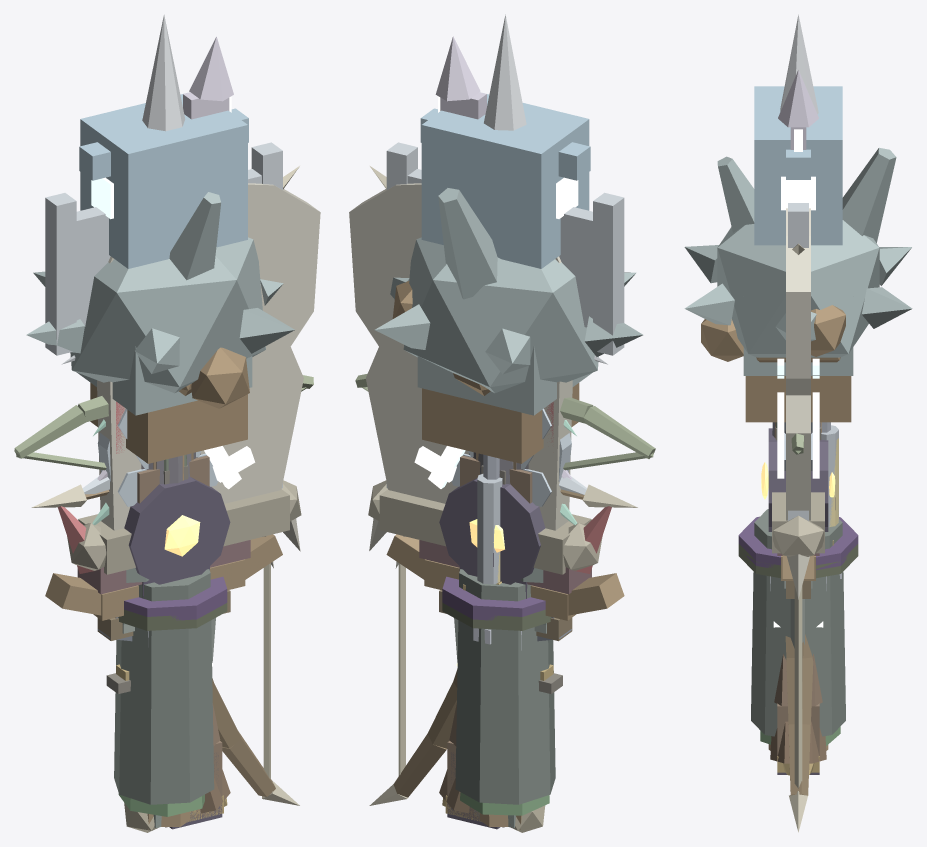
File: weapon.glb
The picture shows the model from 3 angles, left to right: view 1: azimuth 30°, elevation 25°; view 2: azimuth 150°, elevation 25°; view 3: azimuth 270°, elevation 25°; orthographic projection. The views are drawn at different scales.
Visible parts, largest first — view 1: Shellcrusher_Head, GlacierMaul_Head, Drowncleaver_Edge, Shellcrusher_Grip, Galecleaver_Head, VulkanRepeater_Head, DriftwoodClub_Head, Drowncleaver_Guard, Shellcrusher_Spike, Scaleblade_Guard, RimefangLance_Head, GatorjawCrossbow_Edge (+19 smaller); view 2: Shellcrusher_Head, GlacierMaul_Head, Drowncleaver_Edge, Shellcrusher_Grip, Galecleaver_Head, DriftwoodClub_Head, VulkanRepeater_Head, Drowncleaver_Guard, Shellcrusher_Spike, Scaleblade_Guard, GatorjawCrossbow_Edge, RimefangLance_Head (+17 smaller); view 3: Shellcrusher_Head, Shellcrusher_Grip, GlacierMaul_Head, Drowncleaver_Edge, Shellcrusher_Spike, DriftwoodClub_Head, Drowncleaver_Guard, DriftwoodClub_Spike, BogwoodBow_Haft, Krakenfang_Guard, BogwoodBow_Edge, Drowncleaver_Glow (+14 smaller).
Boxes of the visible parts, x1,y1,x2,y2 form: Shellcrusher_Head: [70, 192, 265, 415]; GlacierMaul_Head: [80, 94, 247, 268]; Drowncleaver_Edge: [97, 183, 320, 530]; Shellcrusher_Grip: [114, 569, 214, 804]; Galecleaver_Head: [45, 142, 282, 355]; VulkanRepeater_Head: [124, 477, 230, 584]; DriftwoodClub_Head: [90, 383, 247, 463]; Drowncleaver_Guard: [67, 480, 301, 574]; Shellcrusher_Spike: [26, 271, 294, 373]; Scaleblade_Guard: [45, 534, 282, 620]; RimefangLance_Head: [142, 14, 185, 131]; GatorjawCrossbow_Edge: [14, 375, 313, 470]; Shellcrusher_Head: [403, 188, 598, 415]; GlacierMaul_Head: [421, 94, 589, 268]; Drowncleaver_Edge: [349, 183, 572, 530]; Shellcrusher_Grip: [455, 569, 555, 804]; Galecleaver_Head: [386, 142, 624, 355]; DriftwoodClub_Head: [422, 373, 579, 463]; VulkanRepeater_Head: [439, 478, 545, 584]; Drowncleaver_Guard: [368, 480, 602, 574]; Shellcrusher_Spike: [375, 272, 642, 374]; Scaleblade_Guard: [386, 534, 624, 620]; GatorjawCrossbow_Edge: [355, 373, 655, 470]; RimefangLance_Head: [484, 14, 526, 130]; Shellcrusher_Head: [717, 147, 896, 375]; Shellcrusher_Grip: [751, 509, 845, 736]; GlacierMaul_Head: [754, 86, 842, 245]; Drowncleaver_Edge: [786, 208, 810, 520]; Shellcrusher_Spike: [684, 245, 912, 341]; DriftwoodClub_Head: [745, 357, 851, 422]; Drowncleaver_Guard: [772, 492, 824, 556]; DriftwoodClub_Spike: [701, 305, 845, 361]; BogwoodBow_Haft: [785, 634, 813, 795]; Krakenfang_Guard: [738, 516, 858, 570]; BogwoodBow_Edge: [794, 586, 802, 788]; Drowncleaver_Glow: [777, 358, 819, 478].
Size of the model in its own units: 1.79 by 4.74 by 1.29.
